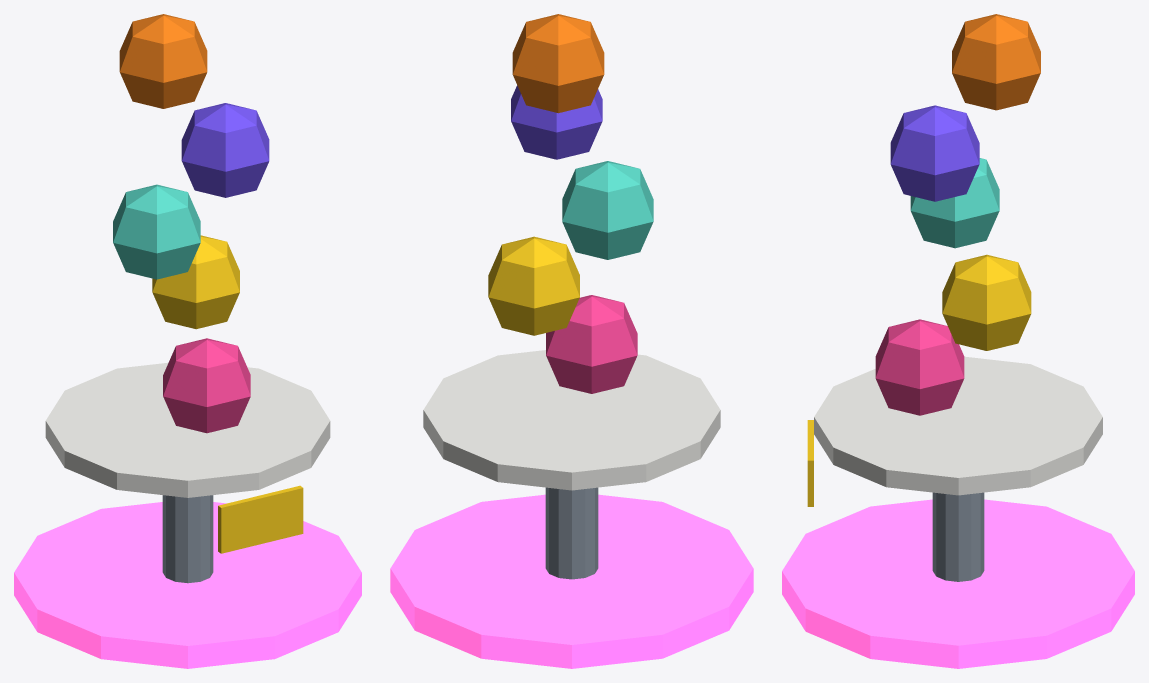
Rendered from item-bouncy_balls.glb.
3 views of the same model, side by side, from view 1: azimuth 30°, elevation 25°; view 2: azimuth 150°, elevation 25°; view 3: azimuth 270°, elevation 25° (orthographic). The views are drawn at different scales.
Visible parts, largest first — view 1: item-bouncy_balls; view 2: item-bouncy_balls; view 3: item-bouncy_balls.
Part boxes in pixels (<box>): item-bouncy_balls: <box>14,14,361,668</box>; item-bouncy_balls: <box>390,14,753,668</box>; item-bouncy_balls: <box>782,14,1134,668</box>.
Bounding box in the file's own units: 1.1 × 1.98 × 1.1.
